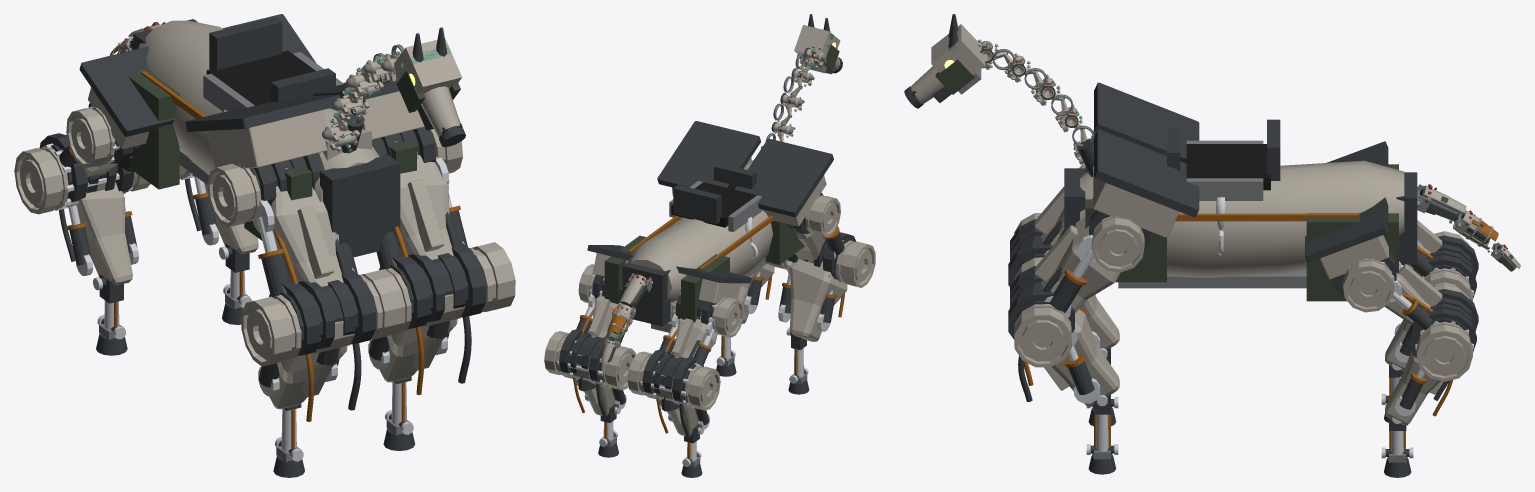
Rendered from horse_robot.fbx.
3 renders of one model, left to right at view 1: azimuth 30°, elevation 25°; view 2: azimuth 150°, elevation 25°; view 3: azimuth 270°, elevation 25°, orthographic. The views are drawn at different scales.
Visible parts, largest first — view 1: Mesh_Leg_FL_Upper, Mesh_Horse_Barrel, Mesh_Leg_FL_Lower, Mesh_Leg_FR_Lower, Mesh_Leg_FR_Upper, Mesh_Leg_HL_Lower, Mesh_Leg_HL_Upper, Mesh_Horse_Saddle, Mesh_Horse_Head, Mesh_Leg_HR_Lower, Mesh_Leg_HR_Upper, Mesh_Leg_HL_Cannon (+10 smaller); view 2: Mesh_Horse_Barrel, Mesh_Leg_FL_Upper, Mesh_Leg_FL_Lower, Mesh_Leg_HL_Upper, Mesh_Leg_HL_Lower, Mesh_Leg_HR_Lower, Mesh_Leg_FR_Upper, Mesh_Horse_Saddle, Mesh_Leg_HR_Upper, Mesh_Horse_Head, Mesh_Leg_FR_Lower, Mesh_Tail_01 (+4 smaller); view 3: Mesh_Horse_Barrel, Mesh_Leg_FR_Upper, Mesh_Leg_HR_Upper, Mesh_Leg_FR_Lower, Mesh_Leg_HR_Lower, Mesh_Horse_Saddle, Mesh_Leg_FL_Upper, Mesh_Horse_Head, Mesh_Leg_HL_Lower, Mesh_Leg_FL_Lower, Mesh_Leg_HL_Upper, Mesh_Tail_01 (+2 smaller).
Part boxes in pixels (<box>): Mesh_Leg_FL_Upper: <box>185,94,361,421</box>; Mesh_Horse_Barrel: <box>128,19,416,257</box>; Mesh_Leg_FL_Lower: <box>241,269,405,409</box>; Mesh_Leg_FR_Lower: <box>359,242,515,382</box>; Mesh_Leg_FR_Upper: <box>313,80,471,394</box>; Mesh_Leg_HL_Lower: <box>14,133,150,284</box>; Mesh_Leg_HL_Upper: <box>59,46,174,261</box>; Mesh_Horse_Saddle: <box>203,17,343,111</box>; Mesh_Horse_Head: <box>394,27,465,146</box>; Mesh_Leg_HR_Lower: <box>179,165,258,253</box>; Mesh_Leg_HR_Upper: <box>184,14,316,231</box>; Mesh_Leg_HL_Cannon: <box>99,274,123,329</box>; Mesh_Horse_Barrel: <box>604,166,804,332</box>; Mesh_Leg_FL_Upper: <box>734,138,844,317</box>; Mesh_Leg_FL_Lower: <box>769,232,875,341</box>; Mesh_Leg_HL_Upper: <box>656,266,751,437</box>; Mesh_Leg_HL_Lower: <box>627,349,720,436</box>; Mesh_Leg_HR_Lower: <box>544,329,636,416</box>; Mesh_Leg_FR_Upper: <box>657,121,772,299</box>; Mesh_Horse_Saddle: <box>669,163,763,261</box>; Mesh_Leg_HR_Upper: <box>573,245,633,417</box>; Mesh_Horse_Head: <box>794,14,842,73</box>; Mesh_Leg_FR_Lower: <box>738,262,786,323</box>; Mesh_Tail_01: <box>619,273,652,307</box>; Mesh_Horse_Barrel: <box>1064,160,1417,301</box>; Mesh_Leg_FR_Upper: <box>1018,129,1199,401</box>; Mesh_Leg_HR_Upper: <box>1305,197,1452,416</box>; Mesh_Leg_FR_Lower: <box>1008,259,1119,406</box>; Mesh_Leg_HR_Lower: <box>1385,284,1478,425</box>; Mesh_Horse_Saddle: <box>1167,119,1280,255</box>; Mesh_Leg_FL_Upper: <box>1034,82,1199,255</box>; Mesh_Horse_Head: <box>904,14,985,108</box>; Mesh_Leg_HL_Lower: <box>1385,231,1478,371</box>; Mesh_Leg_FL_Lower: <box>1008,213,1119,348</box>; Mesh_Leg_HL_Upper: <box>1326,141,1442,275</box>; Mesh_Tail_01: <box>1417,184,1466,221</box>.
Bounding box in the file's own units: 184 × 356 × 468.
